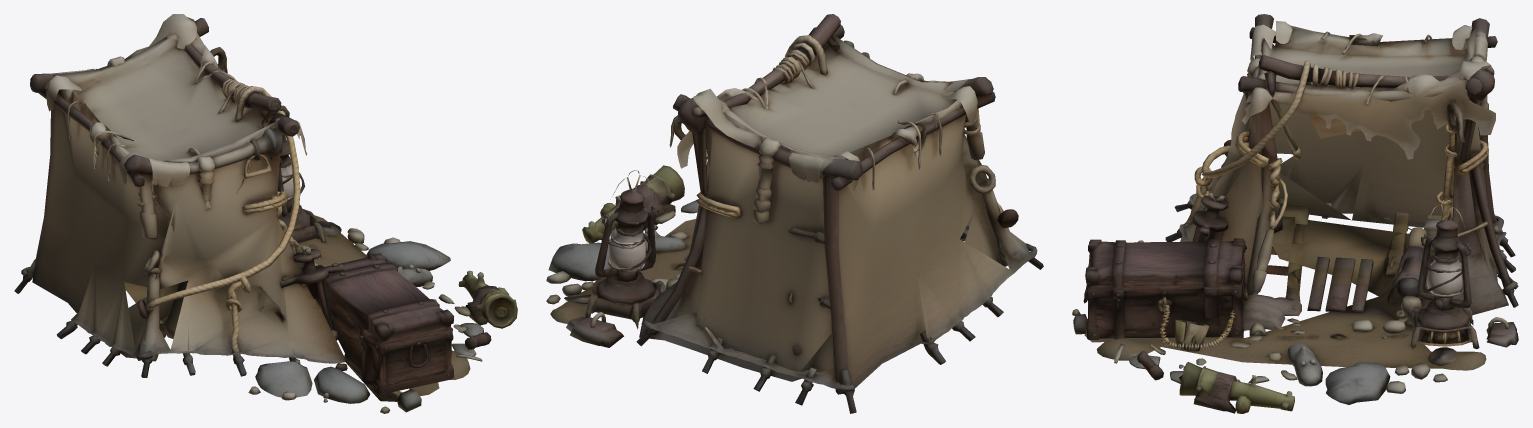
The model's file is ch4_1890s_expedition_relics_LOD0.glb.
3 renders of one model, left to right at view 1: azimuth 30°, elevation 25°; view 2: azimuth 150°, elevation 25°; view 3: azimuth 270°, elevation 25°, orthographic. The views are drawn at different scales.
Visible parts, largest first — view 1: tripo_node_3d1a29e7-ccef-40ac-9436-c12024c8dad5; view 2: tripo_node_3d1a29e7-ccef-40ac-9436-c12024c8dad5; view 3: tripo_node_3d1a29e7-ccef-40ac-9436-c12024c8dad5.
Part boxes in pixels (left/top/right/bottom): tripo_node_3d1a29e7-ccef-40ac-9436-c12024c8dad5: left=14, top=14, right=517, bottom=413; tripo_node_3d1a29e7-ccef-40ac-9436-c12024c8dad5: left=546, top=14, right=1043, bottom=413; tripo_node_3d1a29e7-ccef-40ac-9436-c12024c8dad5: left=1072, top=14, right=1518, bottom=413.
Bounding box in the file's own units: 0.998 × 0.6309 × 0.998.
Materials: 1 (1 with a texture image).
